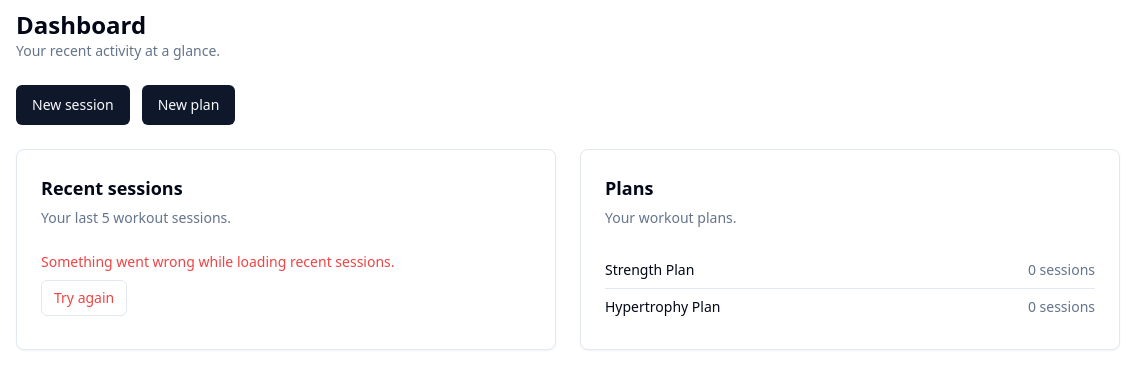
Test: DashboardPage › allows retrying a failed section
The width and height of the screenshot is (1137, 367).
Click the button "Try again": (84,298) [41,280,127,316]
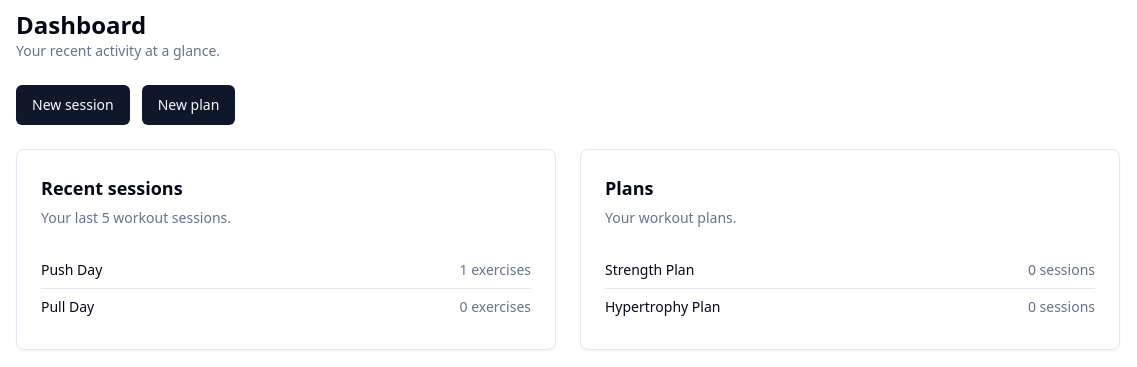
Expected: the text "Push Day" is shown, [41,260,102,280]
